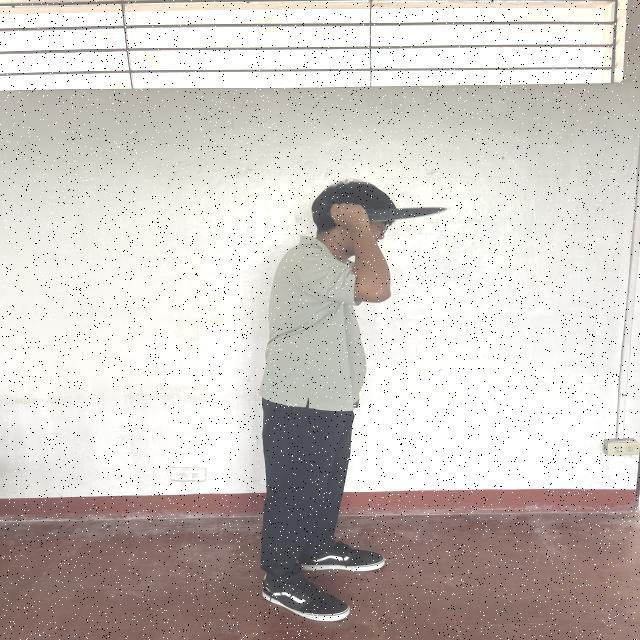knife: (369, 206, 445, 223)
non-violence: (258, 185, 446, 621)
